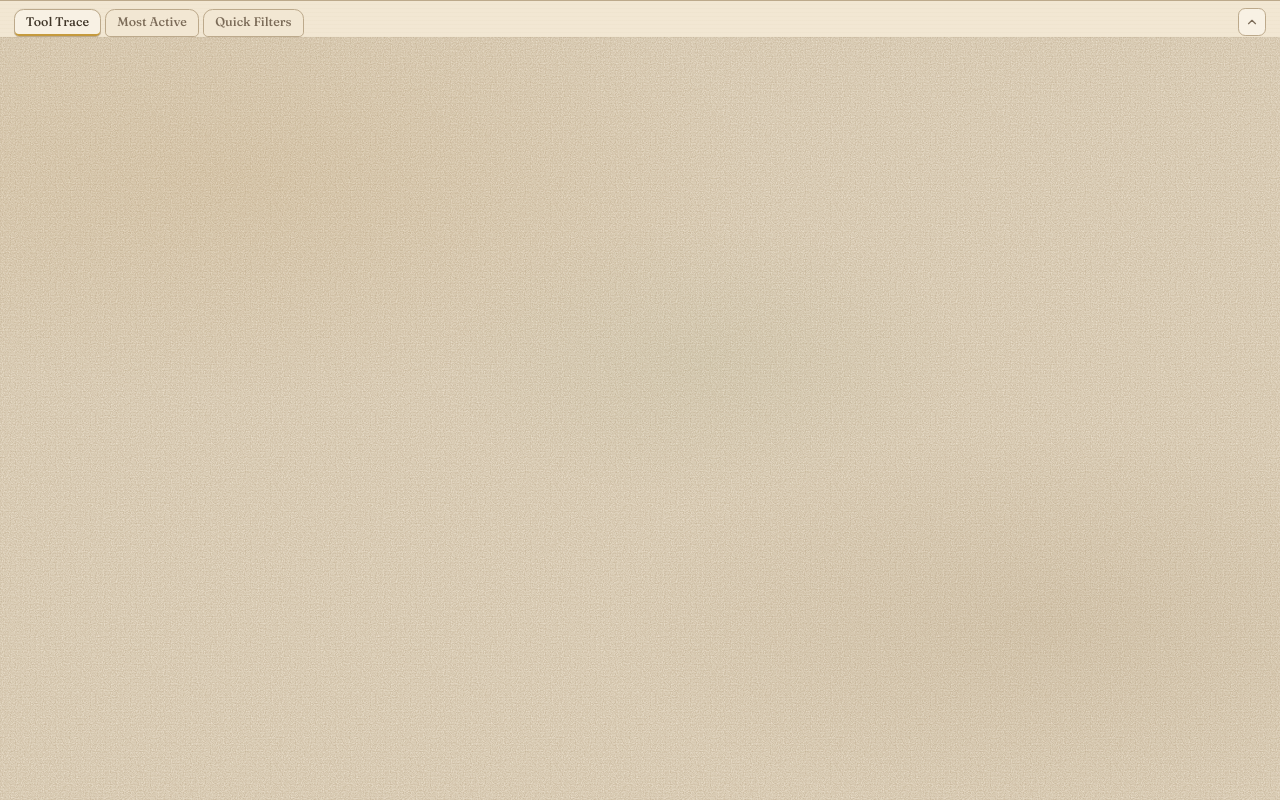
Test: BottomDock › expands and shows trace pane when Tool Trace tab is clicked
Click the tab "Tool Trace" at (57, 23), box [14,9,101,37]
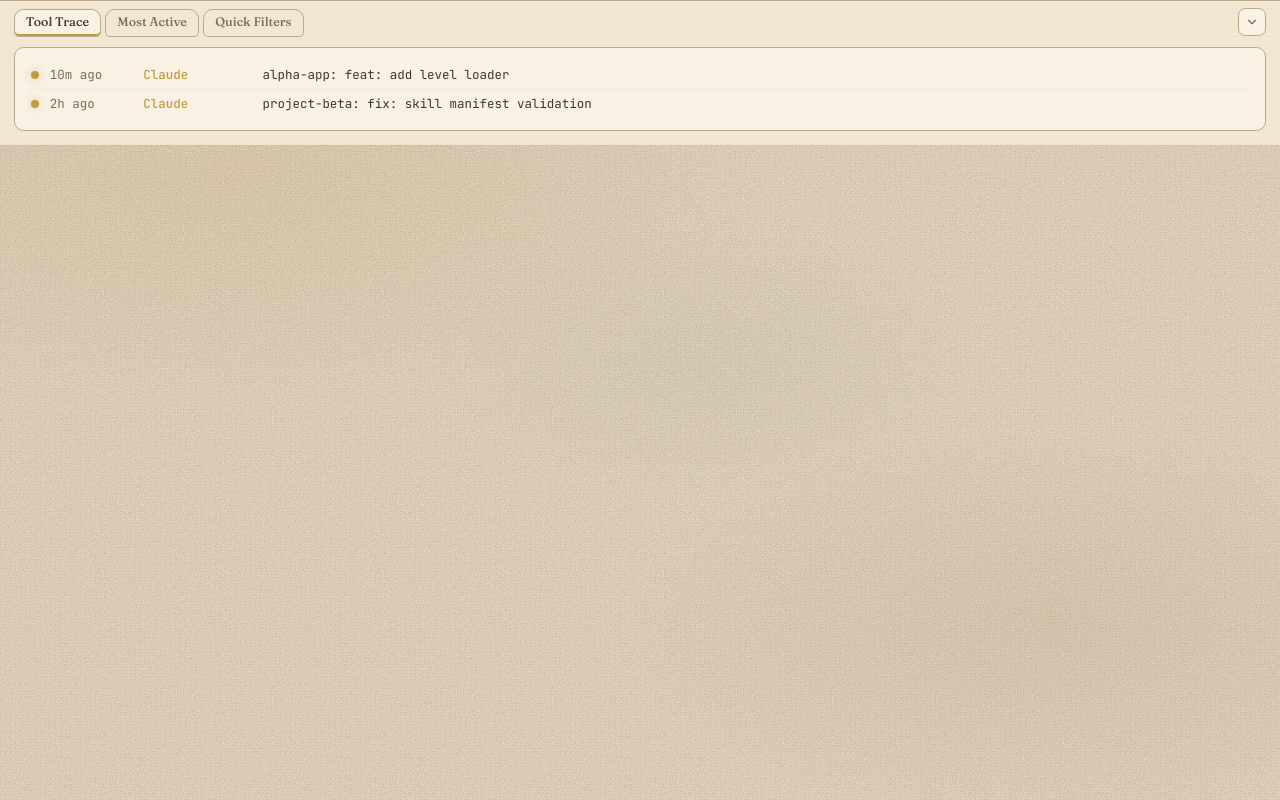
Result: the text "alpha-app: feat: add level loader" is shown at [262,66,509,82]
Result: the text "project-beta: fix: skill manifest validation" is shown at [262,95,592,112]
